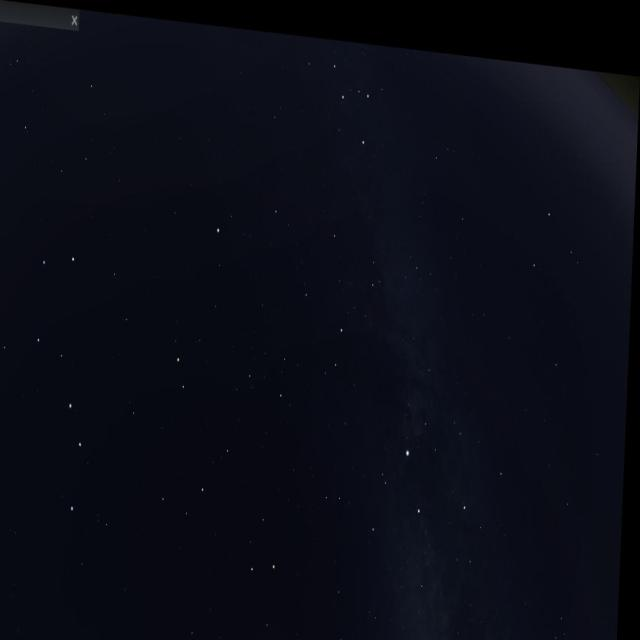cassiopeia: (292, 28, 389, 164)
cygnus: (370, 419, 478, 638)
ursa_major: (4, 232, 118, 536)
